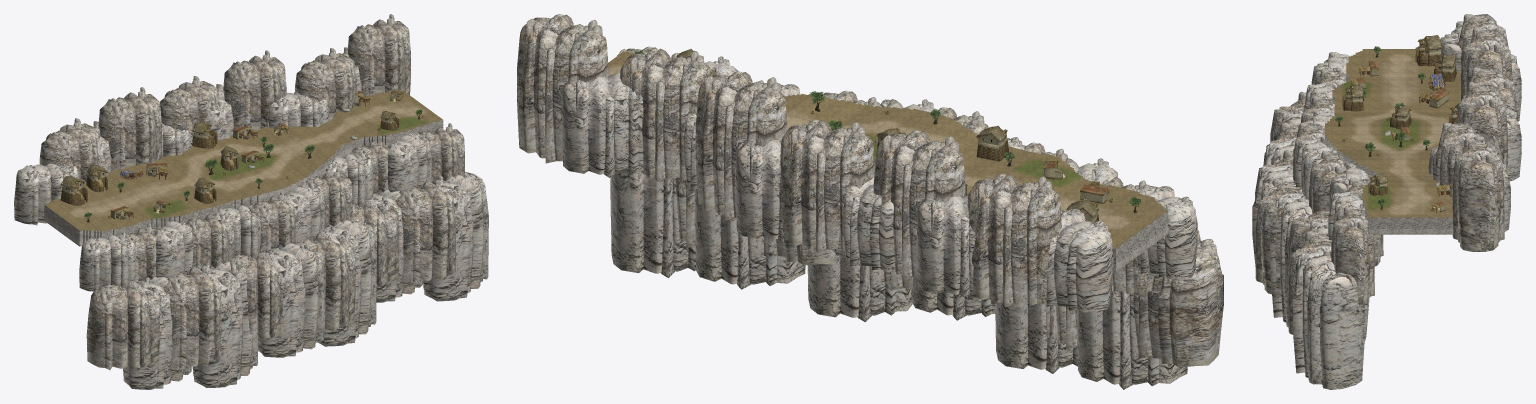
File: level.glb
3 renders of one model, left to right at view 1: azimuth 30°, elevation 25°; view 2: azimuth 150°, elevation 25°; view 3: azimuth 270°, elevation 25°, orthographic. The views are drawn at different scales.
Parts seen in each view (by area): view 1: walkable_support_07B, deep_rock_00_0, deep_rock_10_0, deep_rock_05_0, deep_rock_02_0, deep_rock_11_0, deep_rock_03_0, back_rock_03_0, back_rock_11_0, back_rock_07_0, deep_rock_07_0, deep_rock_06_0 (+28 smaller); view 2: walkable_support_07B, back_rock_01_0, back_rock_05_0, back_rock_11_0, back_rock_07_0, deep_rock_00_0, back_rock_03_0, back_rock_10_0, back_rock_09_0, deep_rock_11_0, deep_rock_01_0, back_rock_00_0 (+16 smaller); view 3: walkable_support_07B, deep_rock_11_0, back_rock_11_0, front_rock_11_0, deep_rock_06_0, back_rock_07_0, deep_rock_07_0, back_rock_03_0, back_rock_09_0, front_rock_07_0, deep_rock_10_0, front_rock_06_0 (+29 smaller).
Part boxes in pixels (<box>): walkable_support_07B: <box>44,90,443,246</box>; deep_rock_00_0: <box>86,277,162,369</box>; deep_rock_10_0: <box>395,175,459,283</box>; deep_rock_05_0: <box>258,241,324,357</box>; deep_rock_02_0: <box>163,263,221,369</box>; deep_rock_11_0: <box>423,172,488,301</box>; deep_rock_03_0: <box>192,261,258,387</box>; back_rock_03_0: <box>98,87,161,171</box>; back_rock_11_0: <box>347,14,410,96</box>; back_rock_07_0: <box>223,50,286,130</box>; deep_rock_07_0: <box>318,220,376,346</box>; deep_rock_06_0: <box>295,226,355,331</box>; walkable_support_07B: <box>608,51,1168,272</box>; back_rock_01_0: <box>967,174,1061,307</box>; back_rock_05_0: <box>780,119,874,252</box>; back_rock_11_0: <box>517,14,608,163</box>; back_rock_07_0: <box>695,71,787,220</box>; deep_rock_00_0: <box>1133,229,1223,367</box>; back_rock_03_0: <box>873,130,965,279</box>; back_rock_10_0: <box>562,72,643,177</box>; back_rock_09_0: <box>620,48,712,181</box>; deep_rock_11_0: <box>610,171,695,277</box>; deep_rock_01_0: <box>1076,291,1187,389</box>; back_rock_00_0: <box>1046,209,1113,312</box>; walkable_support_07B: <box>1325,49,1460,234</box>; deep_rock_11_0: <box>1293,250,1364,389</box>; back_rock_11_0: <box>1452,137,1504,251</box>; front_rock_11_0: <box>1331,206,1374,305</box>; deep_rock_06_0: <box>1255,178,1307,295</box>; back_rock_07_0: <box>1456,82,1508,175</box>; deep_rock_07_0: <box>1270,194,1312,327</box>; back_rock_03_0: <box>1460,27,1512,101</box>; back_rock_09_0: <box>1435,122,1484,189</box>; front_rock_07_0: <box>1309,150,1346,213</box>; deep_rock_10_0: <box>1288,231,1331,334</box>; front_rock_06_0: <box>1295,139,1336,199</box>.
Size of the model in its own units: 105 by 57.5 by 57.22.
15 materials, 15 textured.
